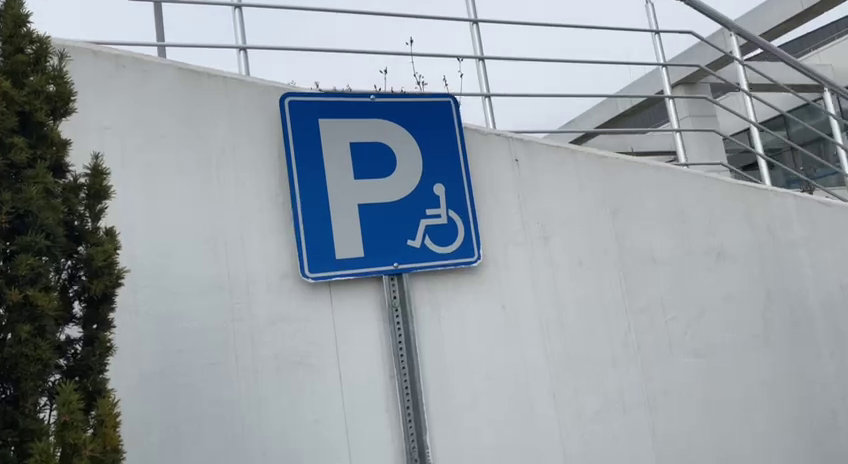parking: (276, 89, 487, 283)
